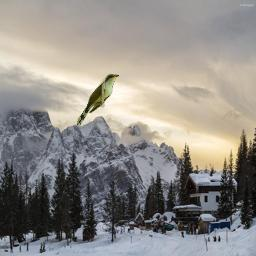Cuckoo: (77, 74, 119, 125)
